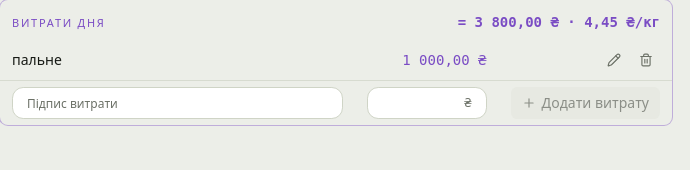
Test: ExpensesStrip › names the shared format message in the inline editor too (#72)
The image size is (690, 170).
Click the button named "Змінити «пальне»" at (614, 60), box [600,46,628,74]
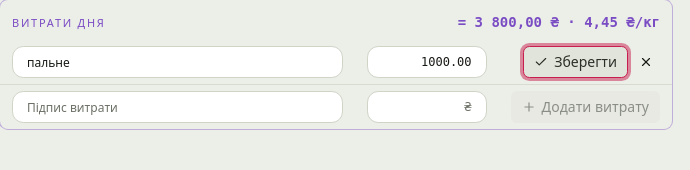
Replace the text in the field showing "1000.00" with "13." at (427, 62), box [367,46,487,78]
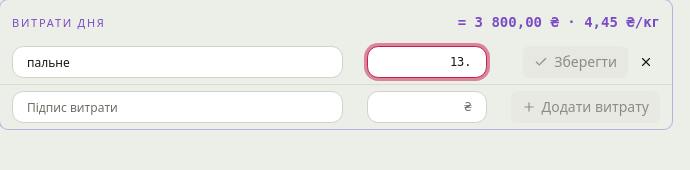
Press Tab
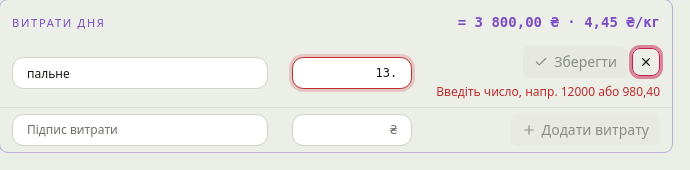
Now the message reads "Введіть число, напр. 12000 або 980,40", box [436,83,660,100]
